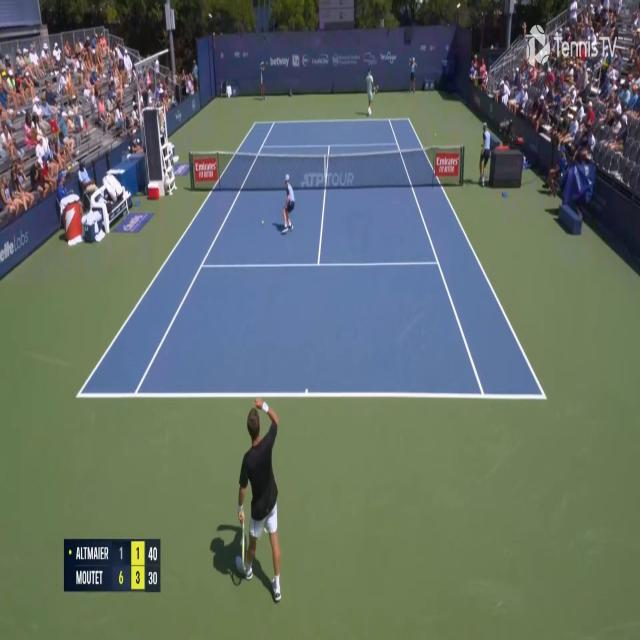tennis-player: (222, 388, 292, 603), (364, 67, 378, 118)
